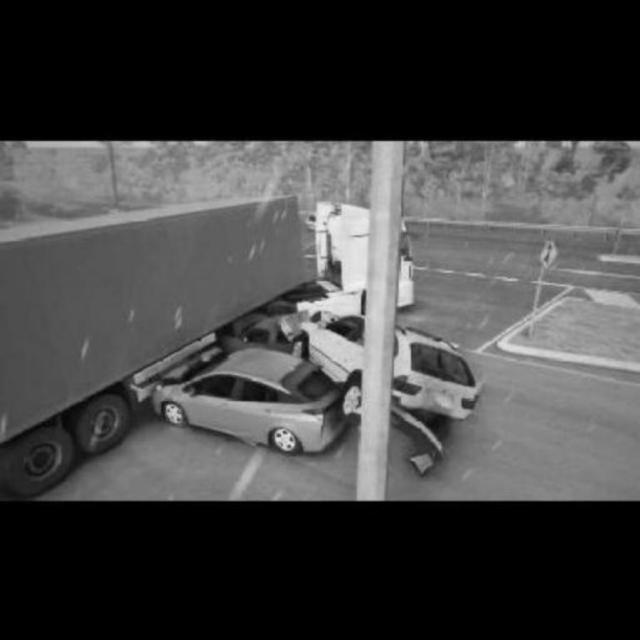accident: (1, 196, 481, 493)
